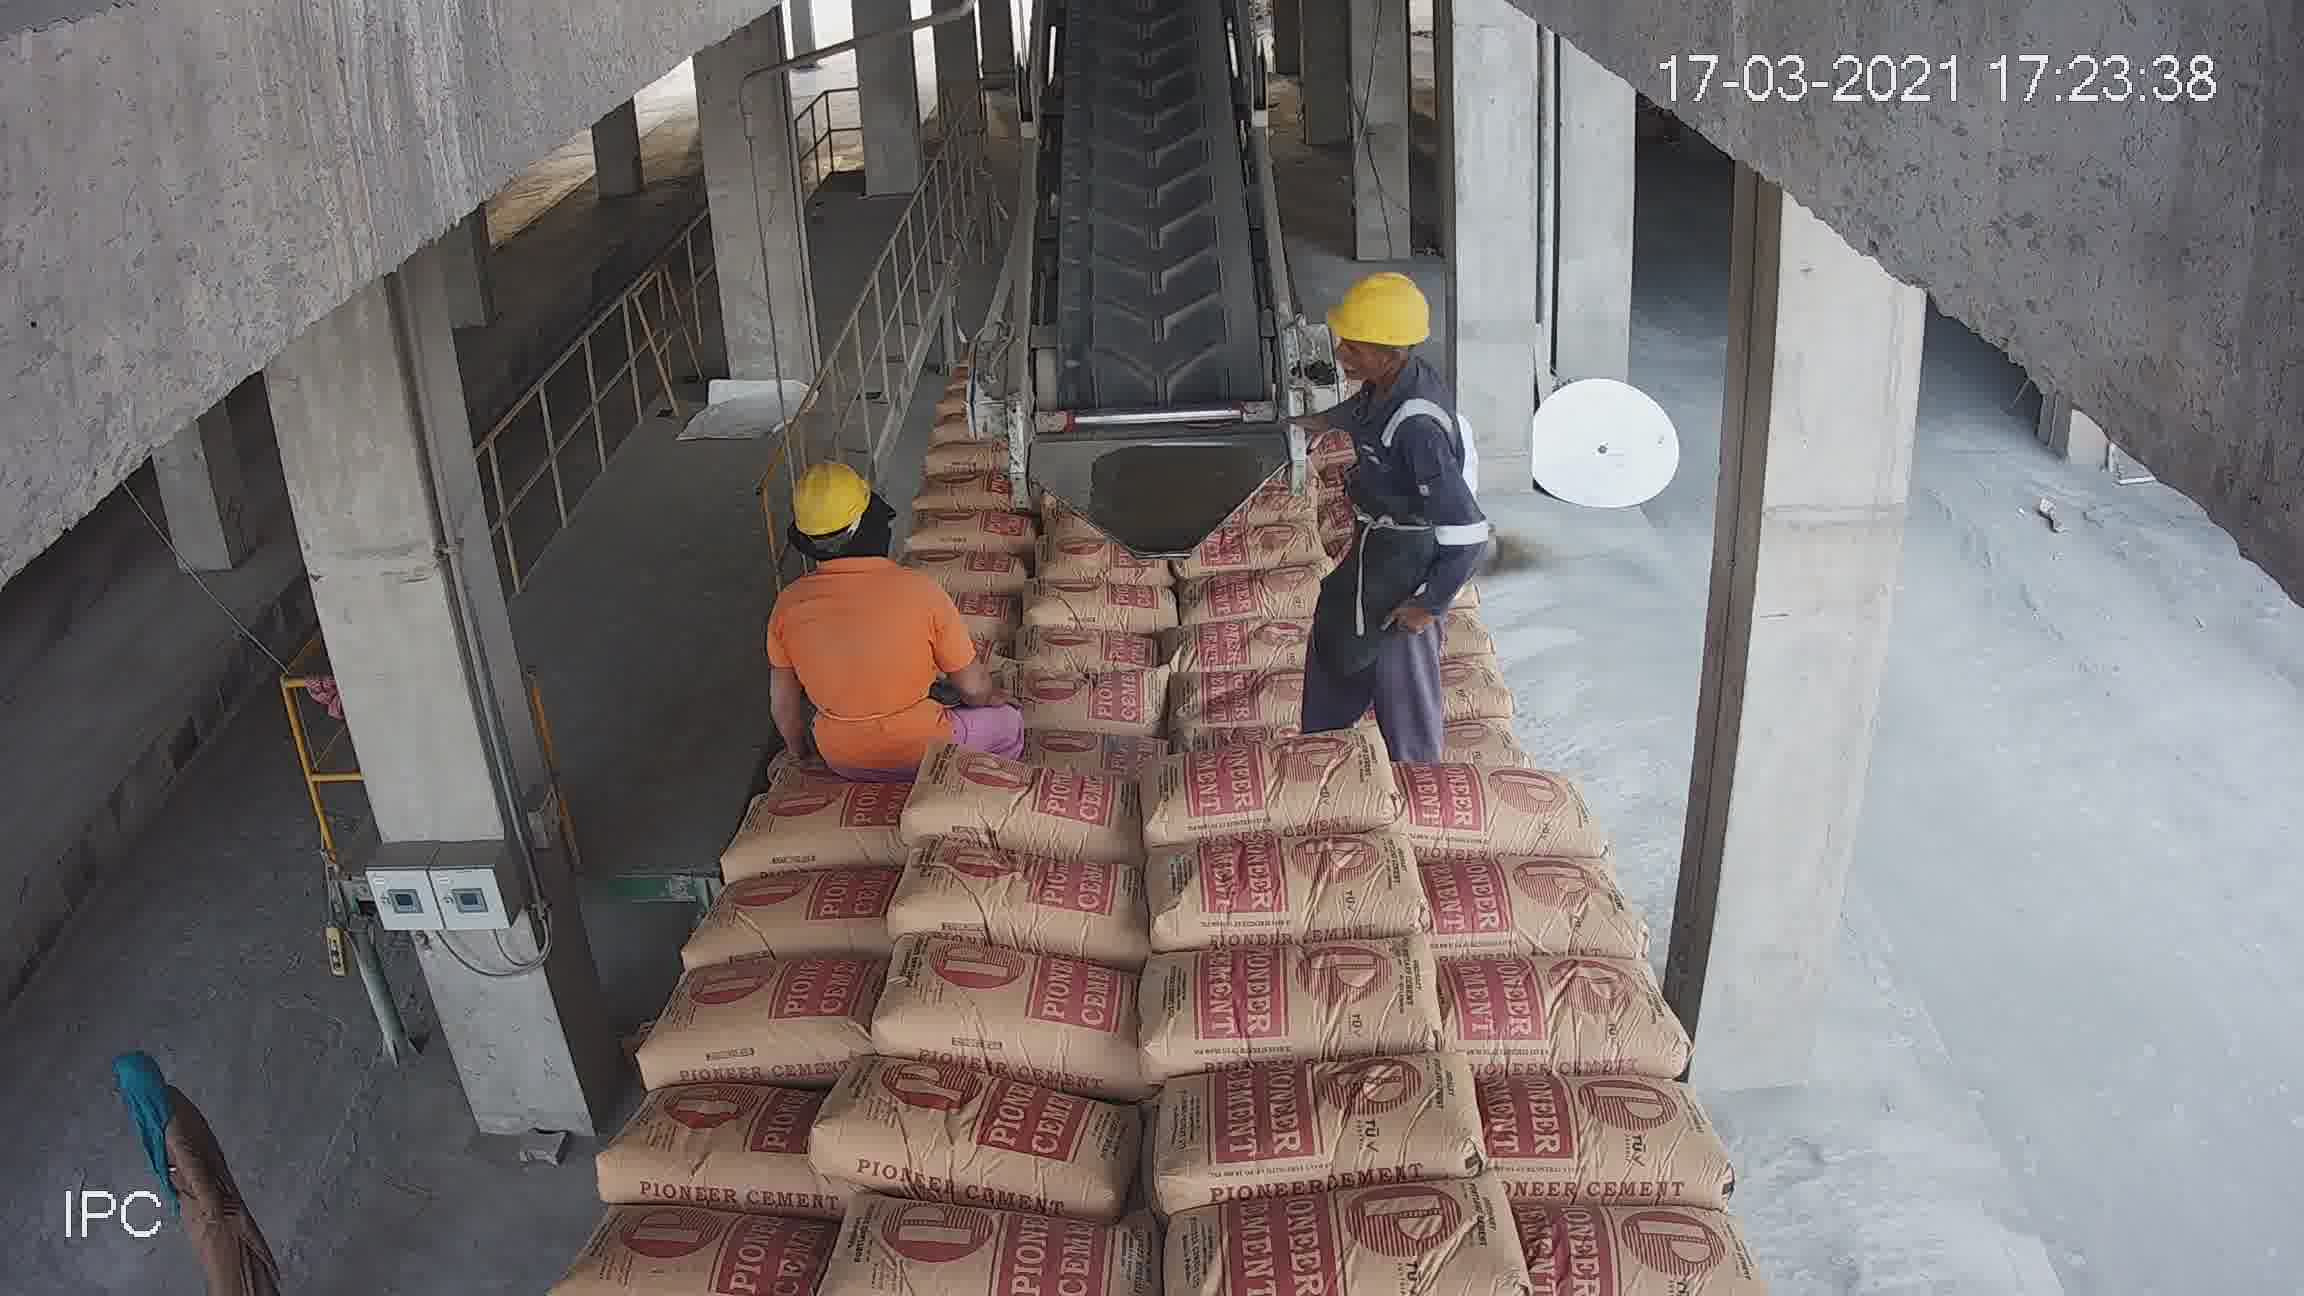bag: (1067, 14, 1274, 359), (1105, 215, 1198, 353), (1101, 5, 1192, 49)
bag_h: (1109, 1060, 1497, 1199), (809, 1076, 1158, 1212), (1111, 923, 1438, 1044), (641, 937, 894, 1089), (603, 1078, 840, 1222), (1143, 1180, 1552, 1263), (1437, 962, 1704, 1082), (880, 943, 1124, 1073), (1397, 842, 1630, 970), (1506, 1067, 1704, 1206), (1112, 734, 1399, 828), (824, 1209, 1149, 1290), (1147, 831, 1407, 930), (902, 840, 1147, 945), (1378, 750, 1593, 867), (1505, 1201, 1764, 1290), (567, 1214, 831, 1296), (1139, 671, 1393, 748), (1347, 680, 1568, 769), (699, 859, 899, 953), (1184, 589, 1393, 676), (717, 782, 900, 880), (722, 693, 923, 780), (891, 771, 1138, 839), (1157, 516, 1348, 601), (978, 604, 1169, 687), (935, 677, 1146, 748), (798, 567, 980, 646), (1370, 543, 1518, 635), (1146, 481, 1323, 554), (785, 641, 961, 712), (1358, 623, 1559, 684), (980, 513, 1157, 579), (824, 529, 978, 593), (1294, 407, 1429, 476), (975, 565, 1146, 612), (1353, 505, 1510, 552), (1320, 451, 1461, 495), (1321, 491, 1472, 529), (1320, 389, 1427, 427), (910, 472, 1010, 510), (888, 498, 983, 536), (930, 434, 1005, 472)
